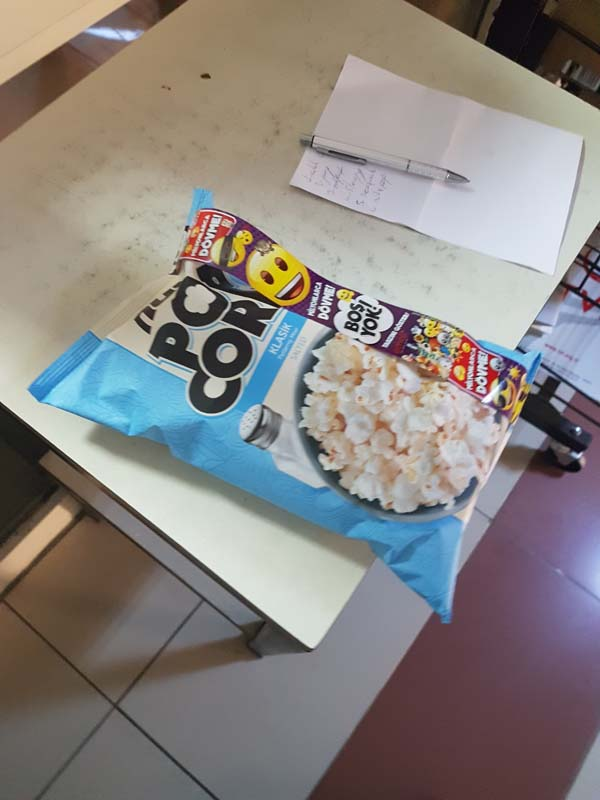popcorn: (38, 187, 546, 627)
